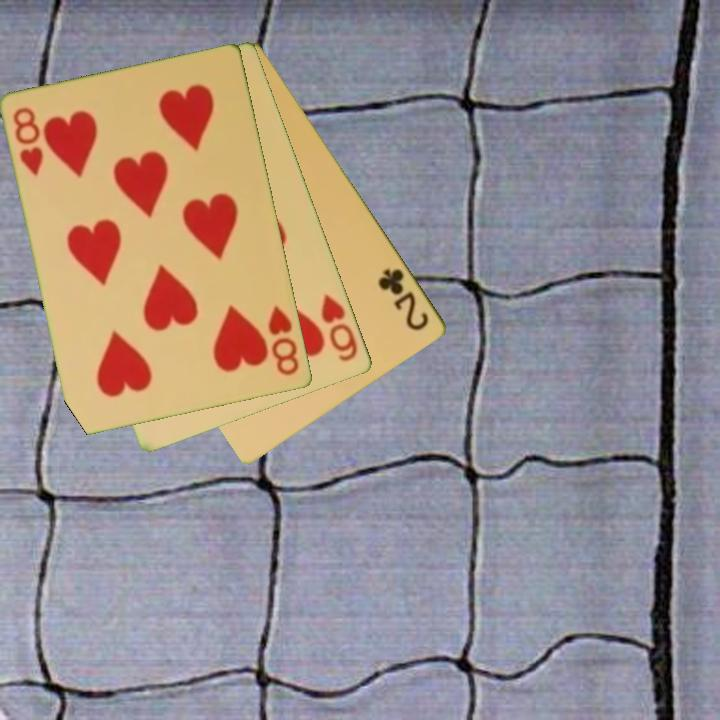2c: (374, 265, 433, 334)
6h: (318, 290, 361, 365)
8h: (265, 301, 302, 379), (10, 104, 47, 179)
